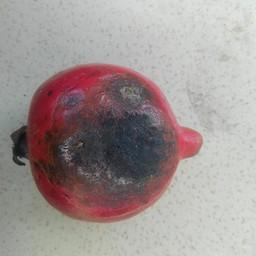Bad_pomegranate: (12, 61, 204, 226)
